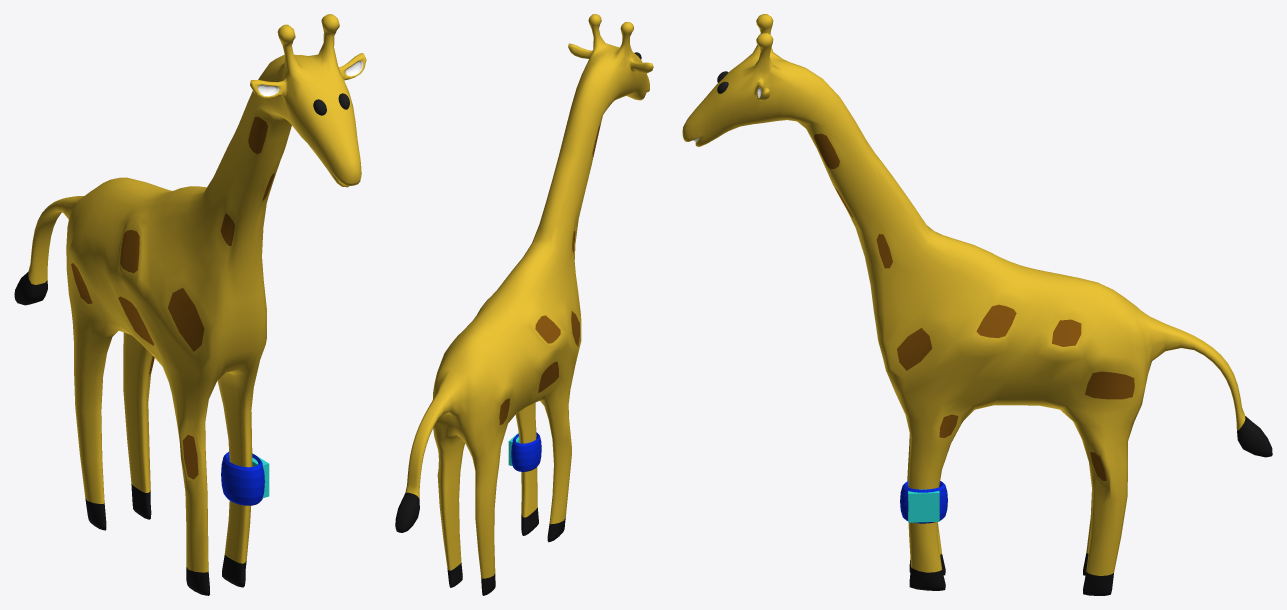
The model's file is giraffe_band.glb.
3 views of the same model, side by side, from view 1: azimuth 30°, elevation 25°; view 2: azimuth 150°, elevation 25°; view 3: azimuth 270°, elevation 25° (orthographic). The views are drawn at different scales.
Visible parts, largest first — view 1: Plane, Torus; view 2: Plane, Torus; view 3: Plane, Cube.
Boxes of the visible parts, <box> form: Plane: <box>14,14,366,595</box>; Torus: <box>221,452,264,505</box>; Plane: <box>395,14,653,595</box>; Torus: <box>511,432,541,471</box>; Plane: <box>682,14,1272,595</box>; Cube: <box>908,489,939,522</box>.
Size of the model in its own units: 0.4448 by 2.37 by 2.26.
